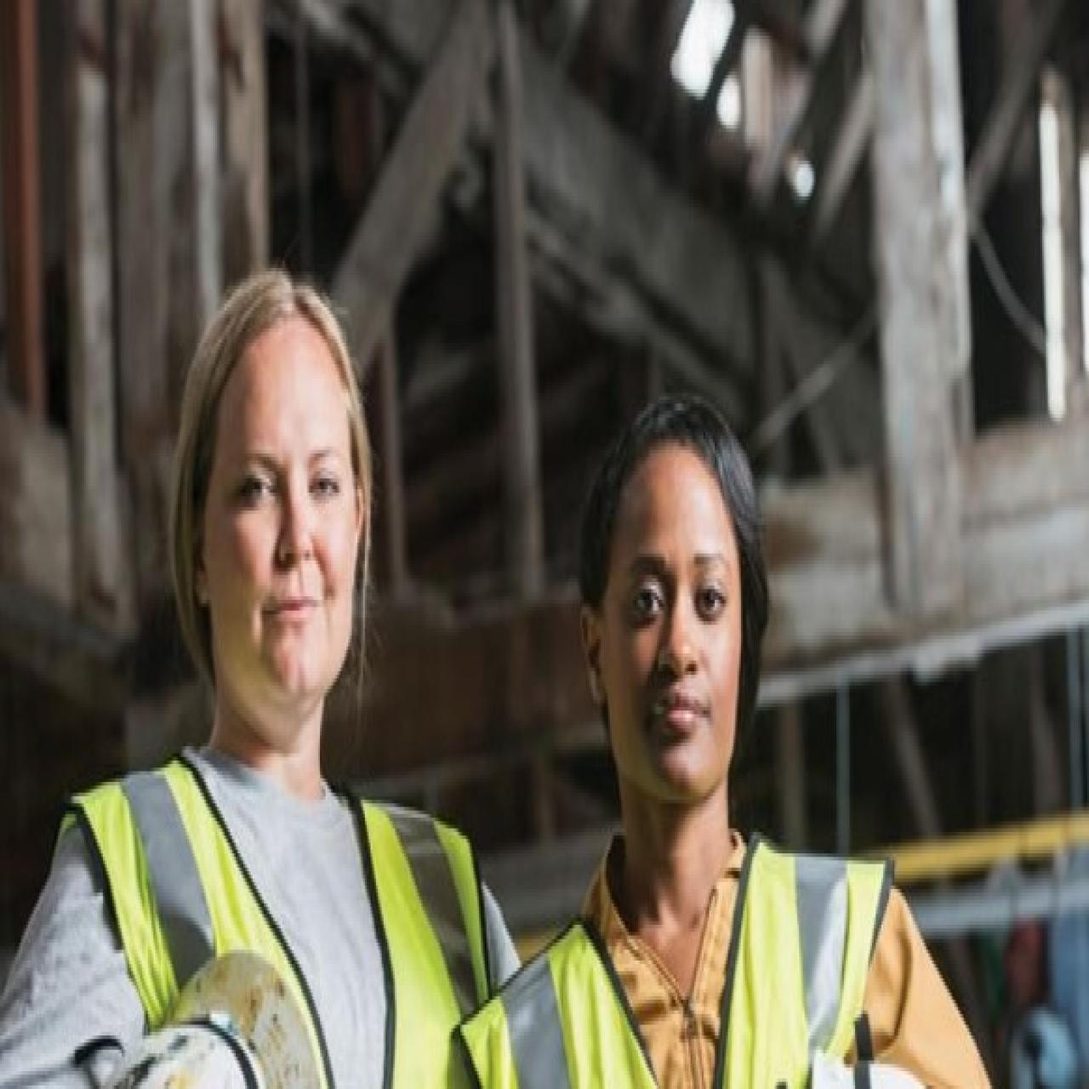Person: (5, 237, 525, 1089), (443, 345, 964, 1089)
Safety_Vest: (61, 751, 492, 1089), (462, 839, 918, 1089)
